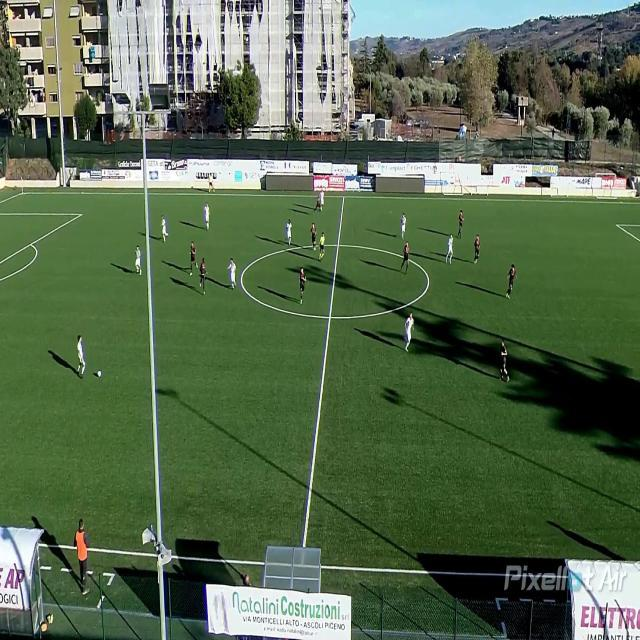arbitro: (318, 232, 326, 259)
football: (93, 369, 101, 376)
jogador: (76, 336, 86, 377), (499, 341, 509, 382), (404, 312, 414, 351), (506, 266, 516, 297), (400, 243, 410, 271), (198, 259, 206, 293), (227, 258, 236, 288), (445, 235, 454, 264), (299, 268, 306, 300), (134, 247, 142, 274), (189, 242, 196, 272), (457, 210, 464, 238), (161, 216, 168, 242), (474, 236, 481, 262), (311, 222, 317, 250), (203, 203, 209, 230), (314, 196, 323, 214), (286, 220, 292, 245), (401, 214, 406, 239), (318, 190, 324, 208)
